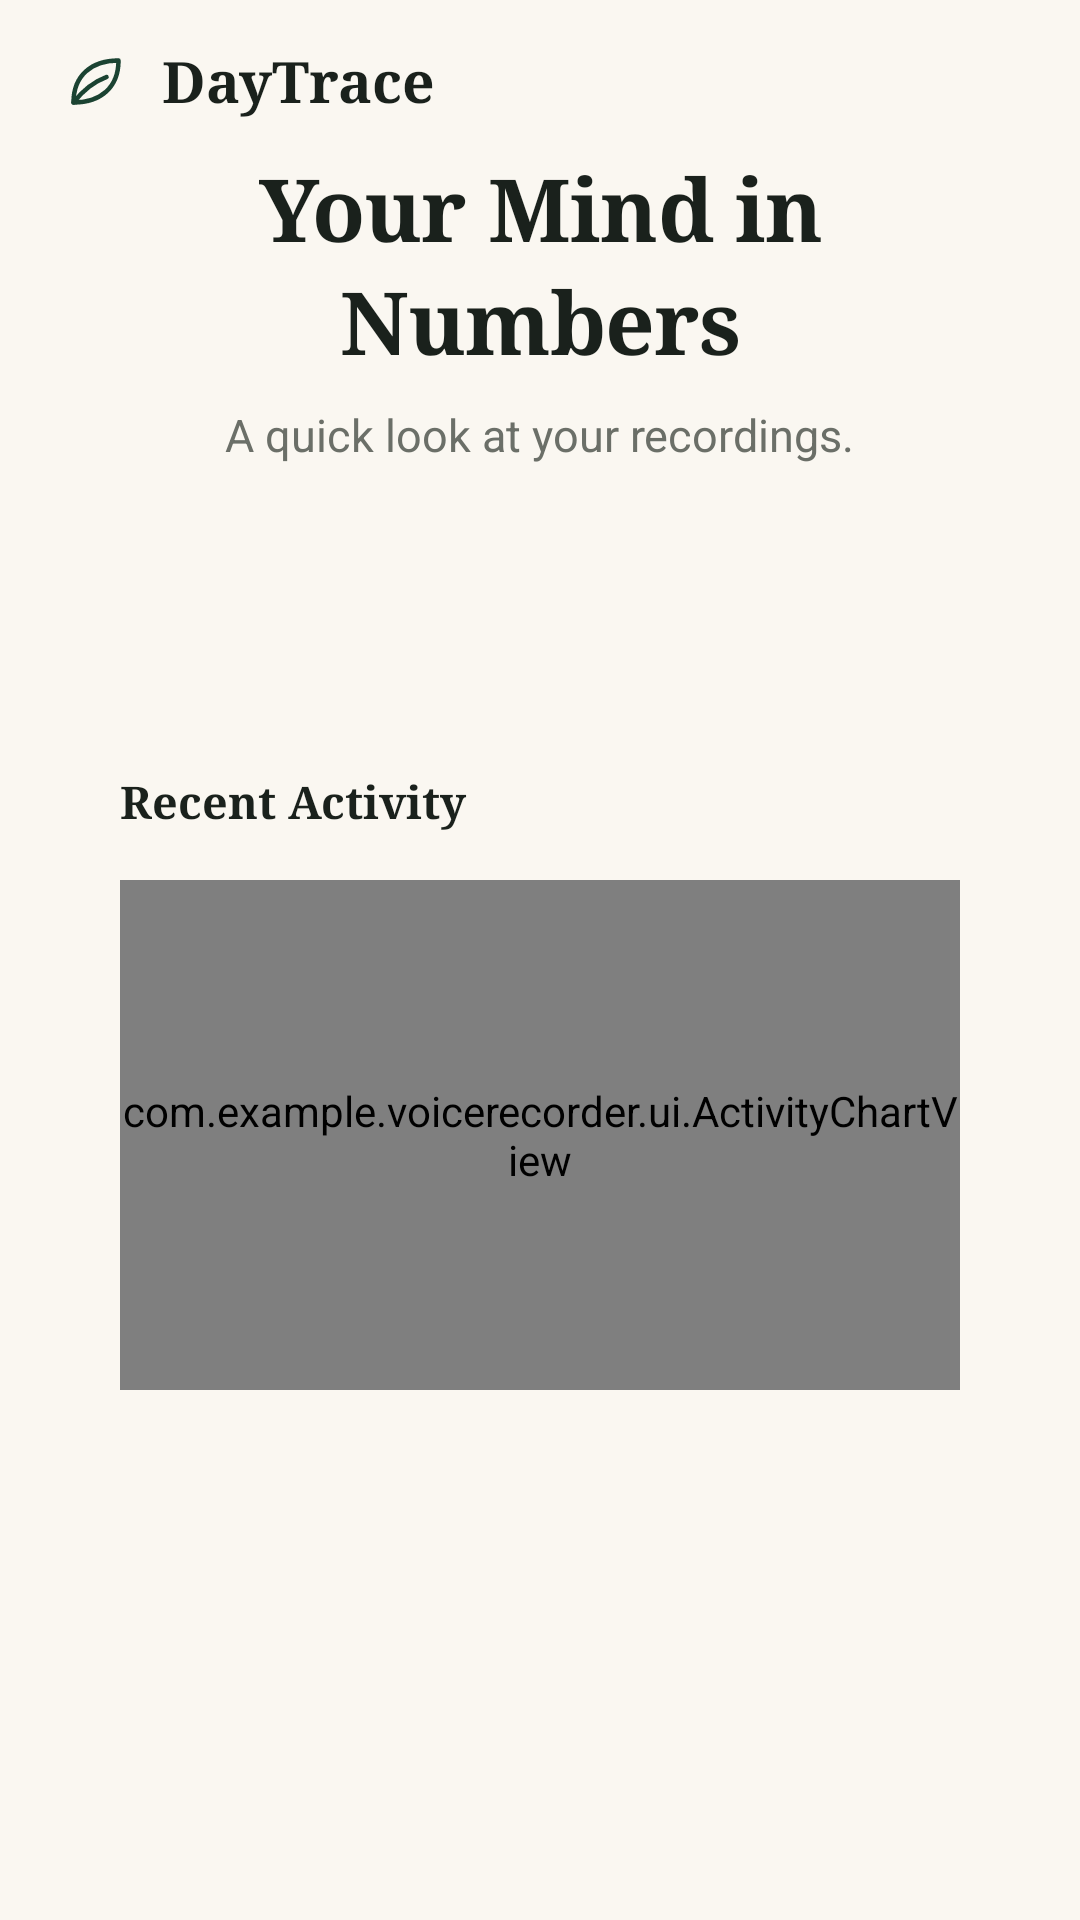

Icon bounding boxes for this 1080 x 1920 phone screenshot, format (x1, y1, x2, y2):
leaf: (71, 58, 121, 105)
